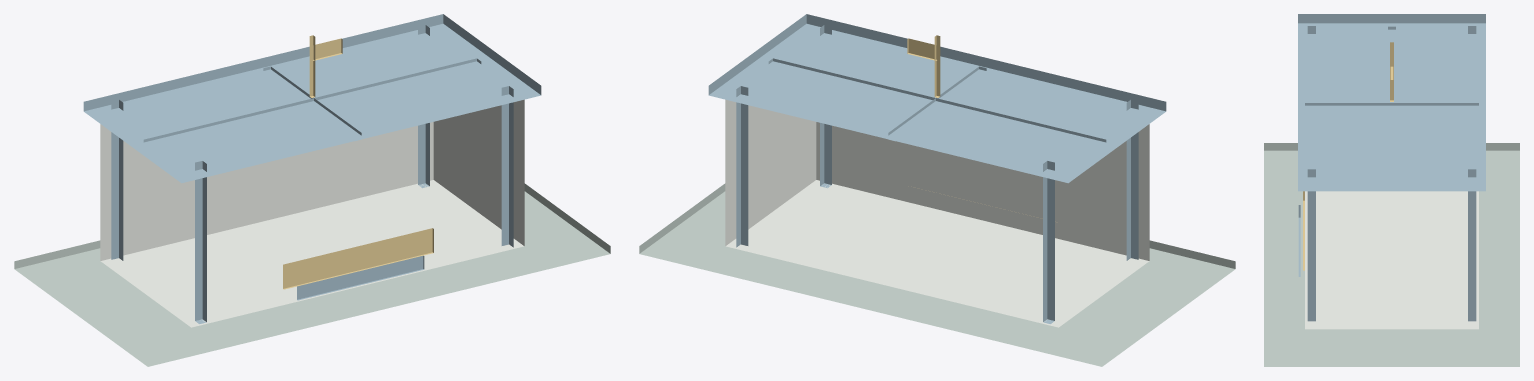
Rendered from police_station.glb.
The picture shows the model from 3 angles, left to right: view 1: azimuth 30°, elevation 25°; view 2: azimuth 150°, elevation 25°; view 3: azimuth 270°, elevation 25°; orthographic projection. The views are drawn at different scales.
Visible parts, largest first — view 1: Walls, Roof, Foundation, Frame, Details; view 2: Walls, Roof, Foundation, Frame, Details; view 3: Roof, Foundation, Walls, Frame, Details.
Boxes of the visible parts, left/top/right/bottom form: Walls: left=100, top=99, right=524, bottom=327; Roof: left=83, top=14, right=541, bottom=183; Foundation: left=14, top=183, right=610, bottom=366; Frame: left=111, top=25, right=513, bottom=323; Details: left=283, top=35, right=433, bottom=300; Walls: left=725, top=99, right=1149, bottom=327; Roof: left=708, top=14, right=1166, bottom=183; Foundation: left=639, top=183, right=1235, bottom=366; Frame: left=736, top=25, right=1138, bottom=323; Details: left=907, top=35, right=940, bottom=97; Roof: left=1298, top=14, right=1485, bottom=191; Foundation: left=1264, top=143, right=1519, bottom=366; Walls: left=1305, top=191, right=1478, bottom=329; Frame: left=1305, top=26, right=1478, bottom=321; Details: left=1298, top=42, right=1393, bottom=276.
Bounding box in the file's own units: 40 × 18.6 × 20.
